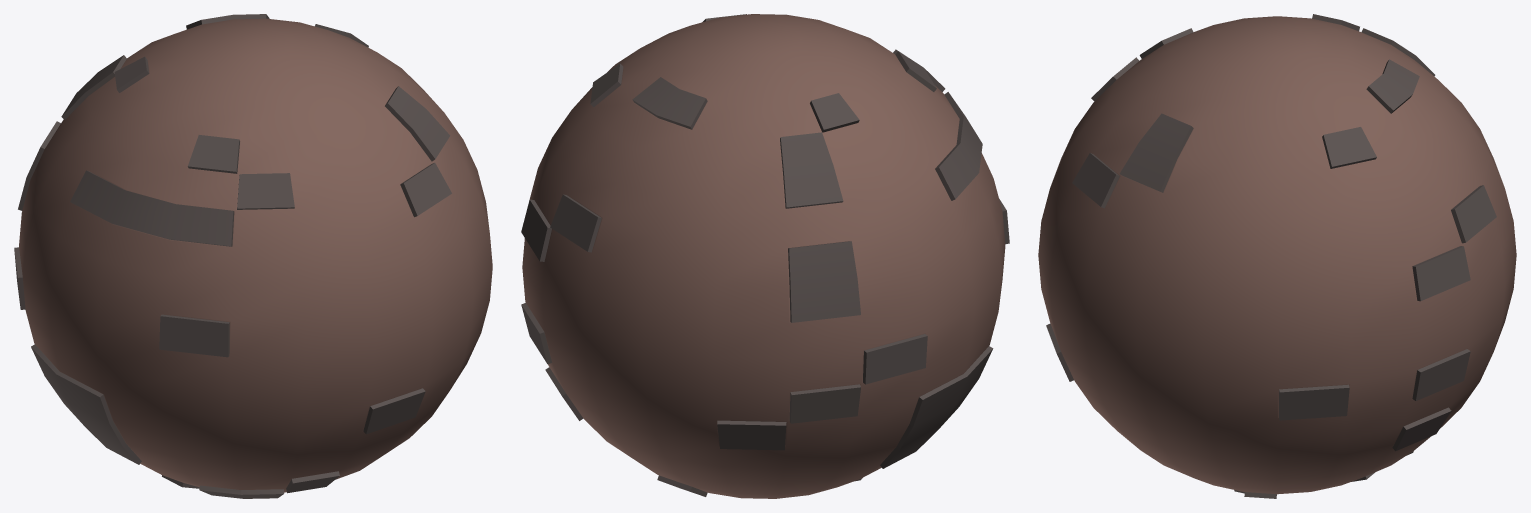
Rendered from Crust_Icon_v01.fbx.
3 views of the same model, side by side, from view 1: azimuth 30°, elevation 25°; view 2: azimuth 150°, elevation 25°; view 3: azimuth 270°, elevation 25° (orthographic).
Visible parts, largest first — view 1: Crust_1; view 2: Crust_1; view 3: Crust_1.
Part boxes in pixels (box(x1,y1,x2,y2)): Crust_1: box(14, 14, 492, 498); Crust_1: box(521, 14, 1009, 498); Crust_1: box(1038, 14, 1516, 498).
Bounding box in the file's own units: 2.01 × 2.02 × 2.
